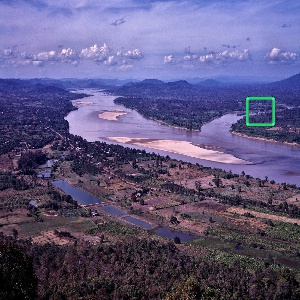square: (241, 95, 277, 128)
